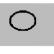no answer: (7, 10, 39, 32)
